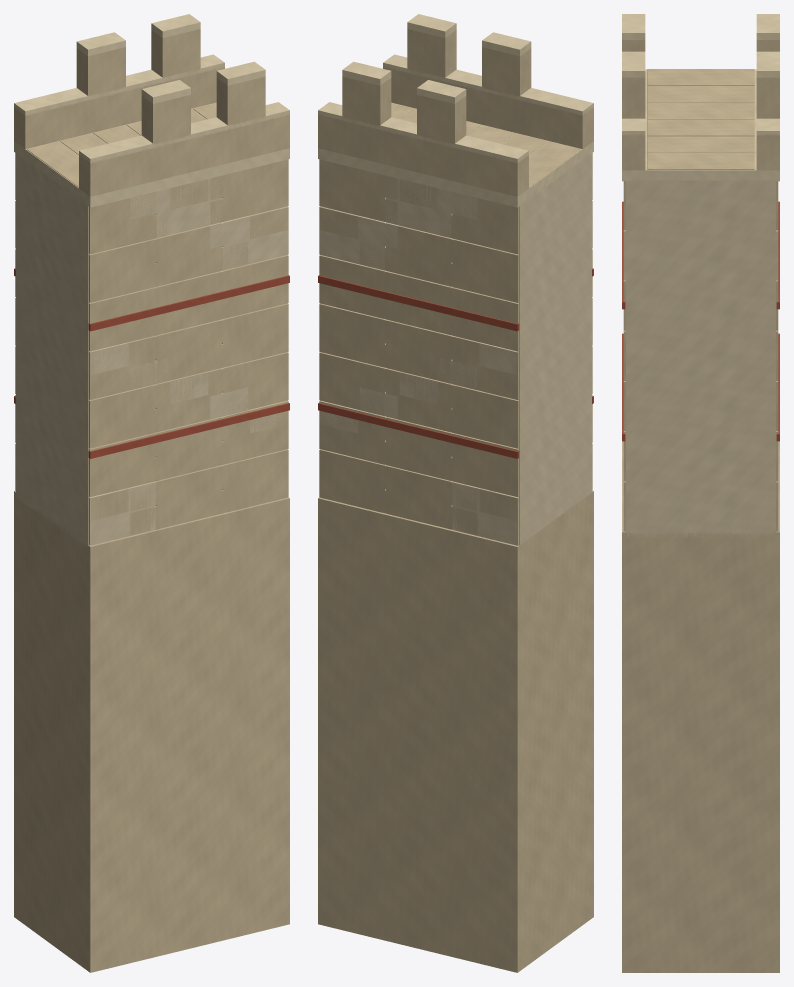
Rendered from verona_wall_arm.glb.
The picture shows the model from 3 angles, left to right: view 1: azimuth 30°, elevation 25°; view 2: azimuth 150°, elevation 25°; view 3: azimuth 270°, elevation 25°; orthographic projection. The views are drawn at different scales.
Visible parts, largest first — view 1: Travertine.001, Travertine.002, Limewash.001, Limewash.002, Limestone_trim.001, Limestone_trim.002, Pompeian_red.001, Pompeian_red.002; view 2: Travertine.001, Travertine.002, Limewash.001, Limestone_trim.001, Limewash.002, Limestone_trim.002, Pompeian_red.001, Pompeian_red.002; view 3: Travertine.001, Limewash.001, Limewash.002, Travertine.002, Limestone_trim.001, Limestone_trim.002, Pompeian_red.001, Pompeian_red.002.
Boxes of the visible parts, x1=… form: Travertine.001: x1=14, y1=31, x2=288, y2=970; Travertine.002: x1=14, y1=29, x2=289, y2=972; Limewash.001: x1=15, y1=152, x2=288, y2=547; Limewash.002: x1=15, y1=153, x2=288, y2=545; Limestone_trim.001: x1=14, y1=14, x2=289, y2=206; Limestone_trim.002: x1=14, y1=14, x2=289, y2=207; Pompeian_red.001: x1=14, y1=270, x2=289, y2=458; Pompeian_red.002: x1=14, y1=268, x2=289, y2=458; Travertine.001: x1=319, y1=31, x2=593, y2=970; Travertine.002: x1=318, y1=29, x2=593, y2=972; Limewash.001: x1=319, y1=154, x2=592, y2=544; Limestone_trim.001: x1=318, y1=14, x2=592, y2=206; Limewash.002: x1=319, y1=153, x2=592, y2=545; Limestone_trim.002: x1=318, y1=14, x2=593, y2=207; Pompeian_red.001: x1=318, y1=275, x2=592, y2=458; Pompeian_red.002: x1=318, y1=268, x2=593, y2=458; Travertine.001: x1=623, y1=41, x2=778, y2=971; Limewash.001: x1=624, y1=179, x2=777, y2=531; Limewash.002: x1=623, y1=180, x2=778, y2=537; Travertine.002: x1=622, y1=40, x2=779, y2=972; Limestone_trim.001: x1=623, y1=14, x2=778, y2=180; Limestone_trim.002: x1=622, y1=14, x2=779, y2=181; Pompeian_red.001: x1=622, y1=201, x2=779, y2=440; Pompeian_red.002: x1=622, y1=202, x2=779, y2=441.
Bounding box in the file's own units: 3.47 × 14.3 × 2.3.
Materials: 4 (4 with a texture image).
